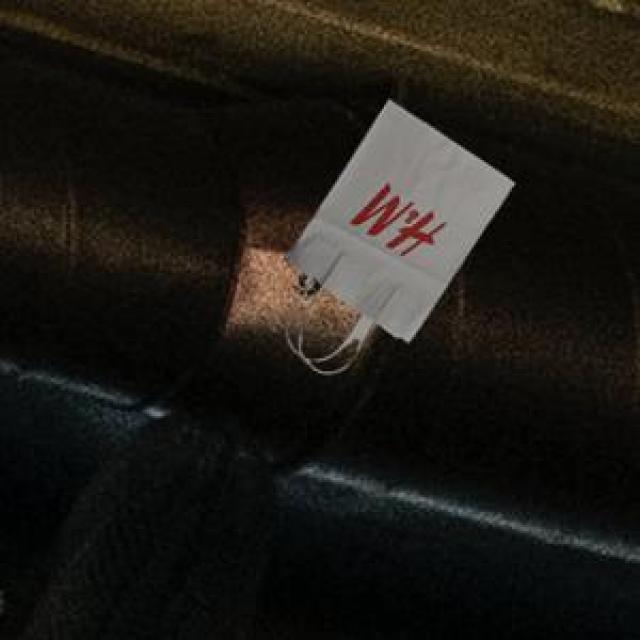paper: (280, 96, 510, 341)
